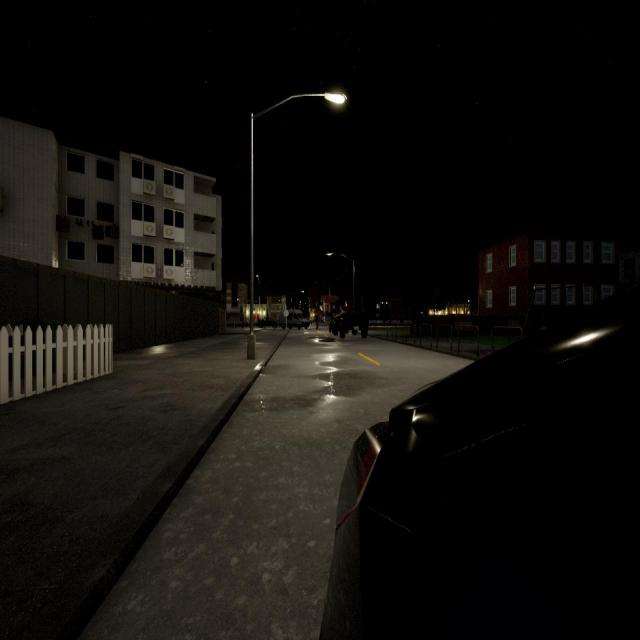Pedestrian: (315, 312, 319, 331)
Traffic_Signs: (284, 310, 288, 316)
Vehicle: (320, 299, 639, 640), (329, 311, 368, 338), (278, 309, 310, 330), (258, 317, 278, 329), (310, 319, 312, 325)
traffic_light: (345, 304, 347, 310)
